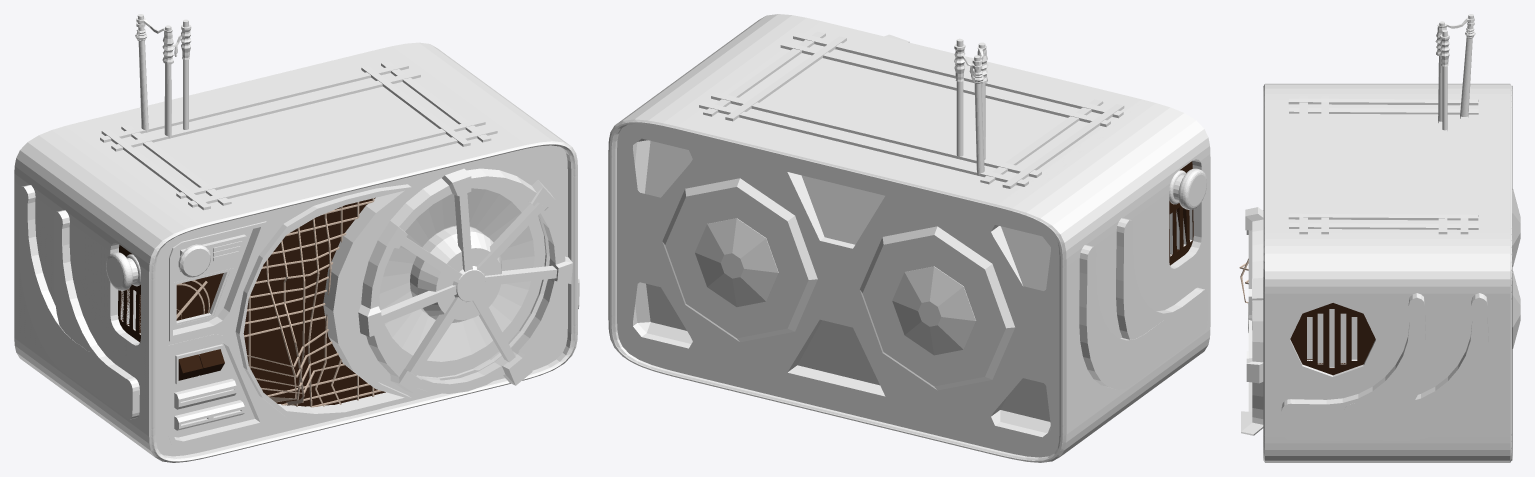
Rendered from 11_alien_radio_2.glb.
The picture shows the model from 3 angles, left to right: view 1: azimuth 30°, elevation 25°; view 2: azimuth 150°, elevation 25°; view 3: azimuth 270°, elevation 25°; orthographic projection. The views are drawn at different scales.
Visible parts, largest first — view 1: radio base, outer, moon, leftsidedown, moon.001, grid, radio_center, bottomleft.002, upperleft.001, doohickey, Cube.015, bottomleft.001 (+16 smaller); view 2: radio base, Cylinder.006, leftsidedown, Cube.009, Cube.015, Cube.008, Cube.014, Cylinder, Cube.010, Cube.012, side_panel, Cube.013 (+2 smaller); view 3: radio base, leftsidedown, outer, sidepanel2, Cube.015, Cube.012, Cube.010, Cube.014, Cube.009, Cube.008, Cube.013, Cube.011 (+6 smaller).
Part boxes in pixels (<box>): radio base: <box>14,14,577,462</box>; outer: <box>358,168,572,393</box>; moon: <box>243,197,385,406</box>; leftsidedown: <box>19,185,579,419</box>; moon.001: <box>235,184,411,420</box>; grid: <box>244,198,381,407</box>; radio_center: <box>410,226,501,322</box>; bottomleft.002: <box>172,341,254,437</box>; upperleft.001: <box>169,221,266,341</box>; doohickey: <box>174,379,244,430</box>; Cube.015: <box>188,127,497,207</box>; bottomleft.001: <box>168,334,265,445</box>; radio base: <box>608,14,1210,462</box>; Cylinder.006: <box>662,178,1015,390</box>; leftsidedown: <box>1079,218,1208,389</box>; Cube.009: <box>711,92,1041,177</box>; Cube.015: <box>793,32,1123,118</box>; Cube.008: <box>699,101,1028,186</box>; Cube.014: <box>780,42,1110,126</box>; Cylinder: <box>1169,168,1206,209</box>; Cube.010: <box>1002,104,1124,188</box>; Cube.012: <box>725,36,846,121</box>; side_panel: <box>1169,161,1193,265</box>; Cube.013: <box>703,31,825,116</box>; radio base: <box>1263,14,1512,462</box>; leftsidedown: <box>1281,293,1488,440</box>; outer: <box>1241,207,1263,435</box>; sidepanel2: <box>1290,303,1375,375</box>; Cube.015: <box>1299,96,1307,234</box>; Cube.012: <box>1288,213,1478,220</box>; Cube.010: <box>1288,98,1478,105</box>; Cube.014: <box>1321,96,1328,234</box>; Cube.009: <box>1438,121,1447,234</box>; Cube.008: <box>1460,96,1468,234</box>; Cube.013: <box>1289,223,1478,229</box>; Cube.011: <box>1289,108,1478,114</box>.
Size of the model in its own units: 4.01 by 3.01 by 2.38.
